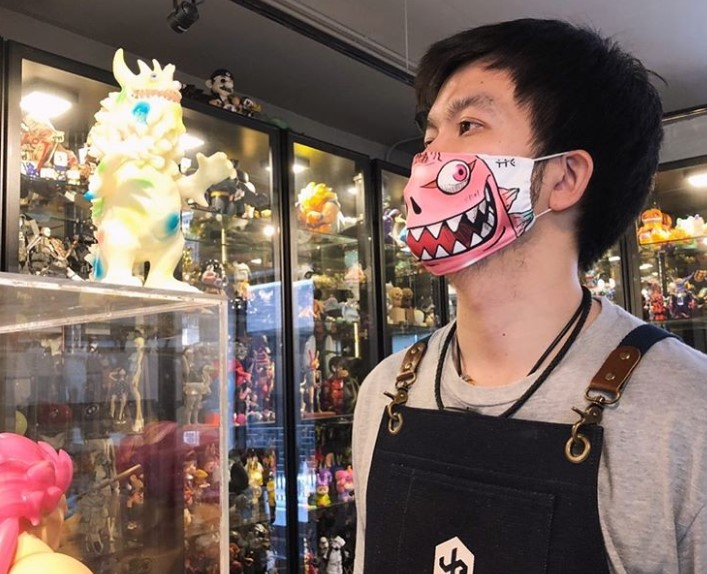face_with_mask: (404, 20, 665, 277)
